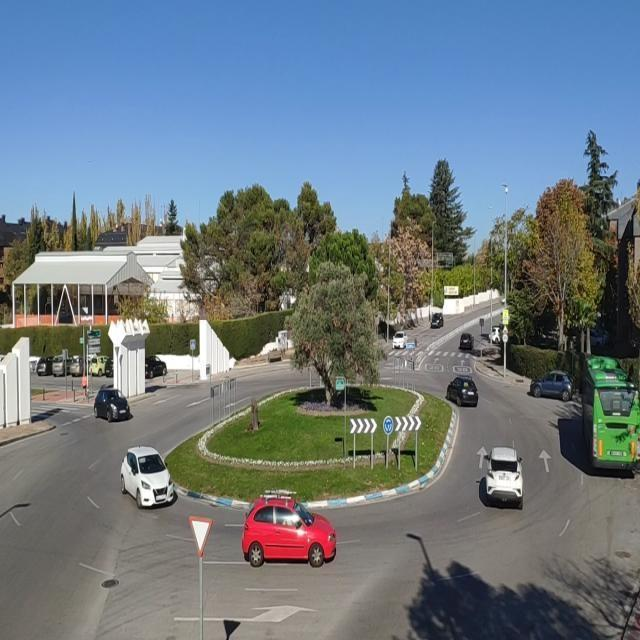Bus: (571, 349, 640, 476)
Car: (237, 486, 346, 572), (117, 448, 178, 509), (480, 442, 528, 503), (80, 388, 142, 424), (528, 367, 574, 406), (441, 373, 482, 412), (422, 303, 450, 333), (455, 328, 481, 352), (390, 327, 410, 355)
